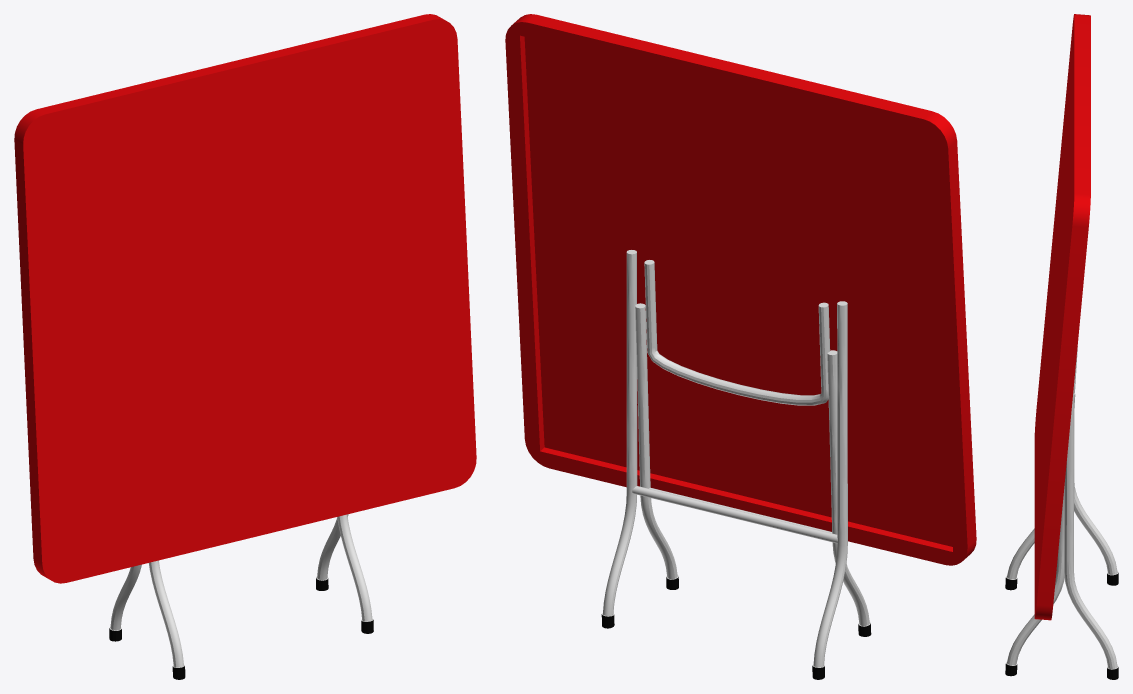
File: MejaMerahLipat.fbx
The picture shows the model from 3 angles, left to right: view 1: azimuth 30°, elevation 25°; view 2: azimuth 150°, elevation 25°; view 3: azimuth 270°, elevation 25°; orthographic projection. The views are drawn at different scales.
Visible parts, largest first — view 1: Table_02; view 2: Table_02; view 3: Table_02.
Boxes of the visible parts, x1,y1,x2,y2 form: Table_02: [14, 14, 476, 679]; Table_02: [505, 14, 976, 679]; Table_02: [1005, 14, 1118, 679].
Size of the model in its own units: 200 by 247 by 48.29.
